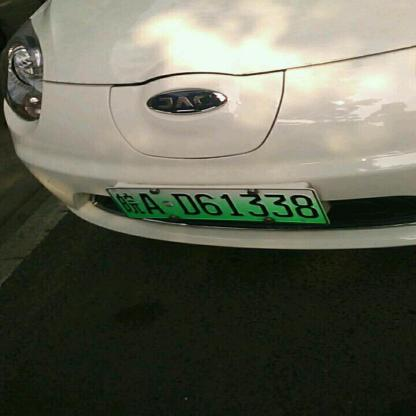lp: (104, 188, 329, 223)
